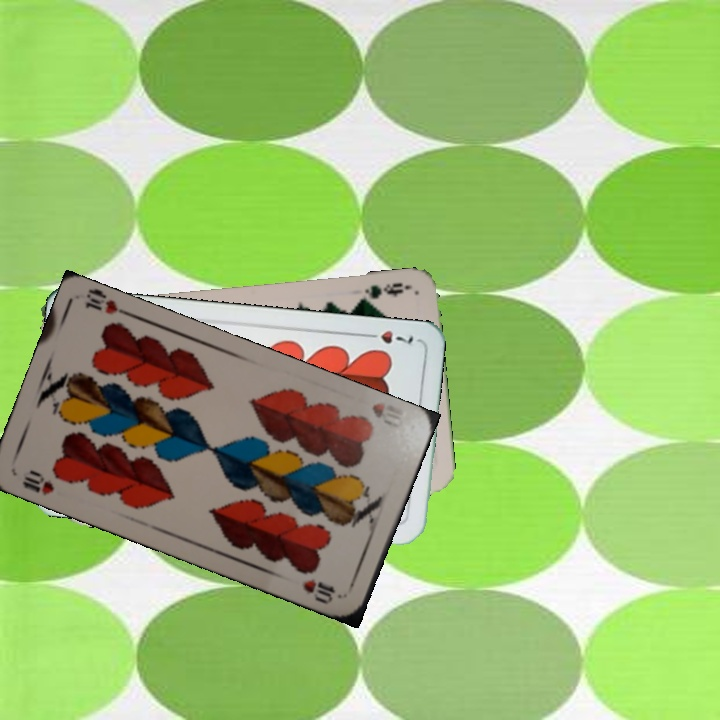G9: (361, 279, 405, 301)
H10: (17, 465, 57, 498), (367, 398, 407, 430)
H7: (360, 326, 416, 347)
